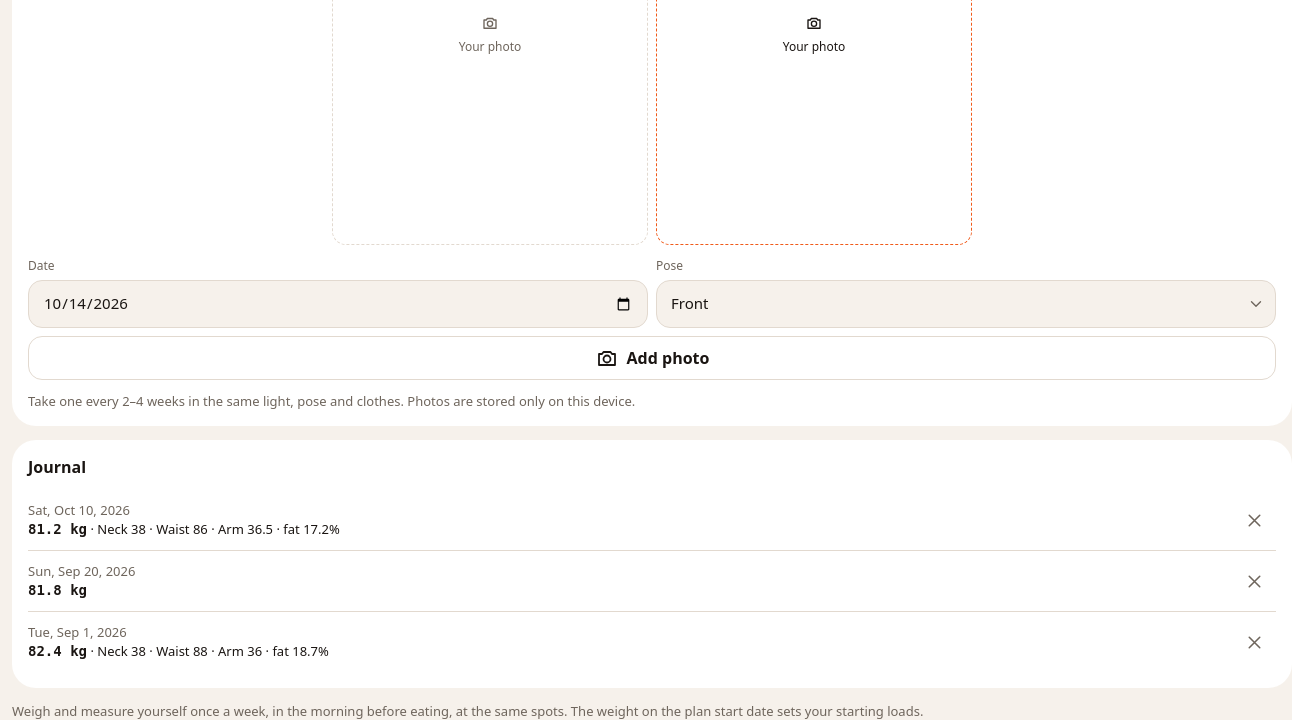
BodyScreen › lists the journal newest first and deletes an entry
(page scrolled)
Expected: the number of list items is 3, [28,490,1276,551]; [28,551,1276,612]; [28,612,1276,672]
Expected: the list item that starts with "Sat, Oct 10, 2026" is shown, [28,501,130,519]
Click the button named "Delete the entry of Sun, Sep 20, 2026" at point(1254, 581), box [1232,559,1276,603]
(page scrolled)
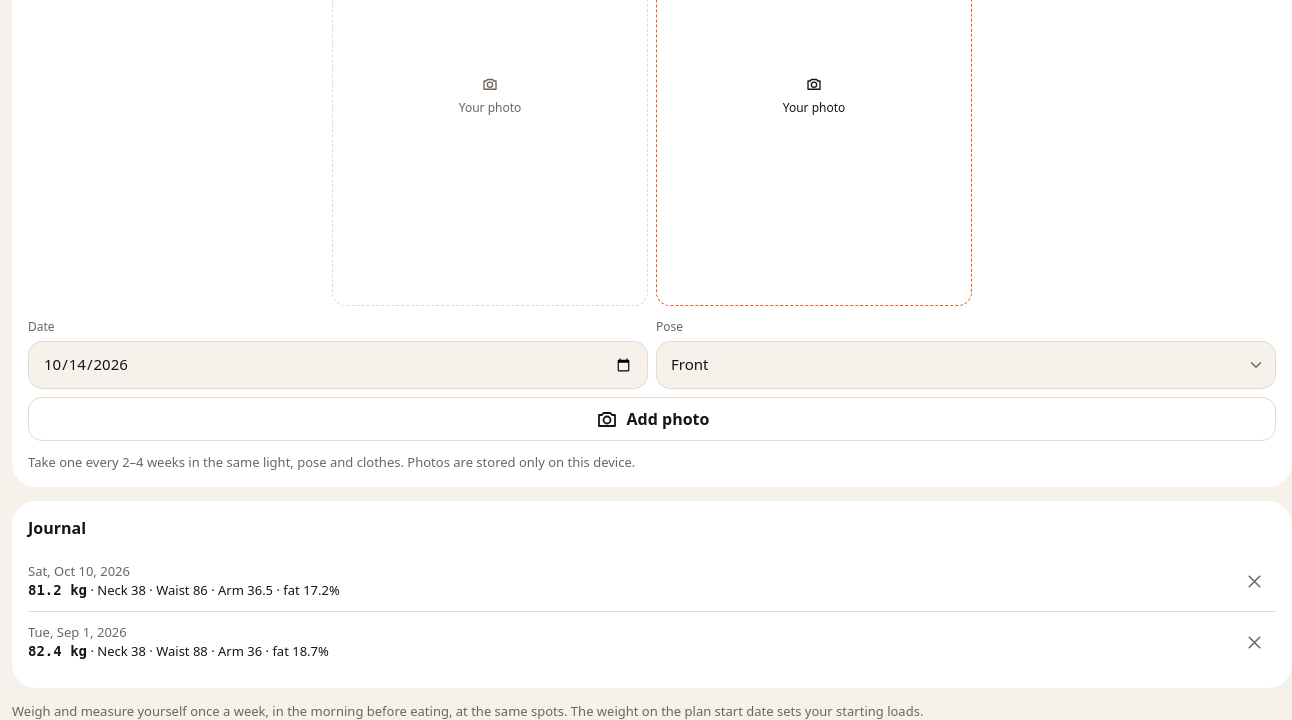
Expected: the number of list items is 2, [28,551,1276,612]; [28,612,1276,672]
